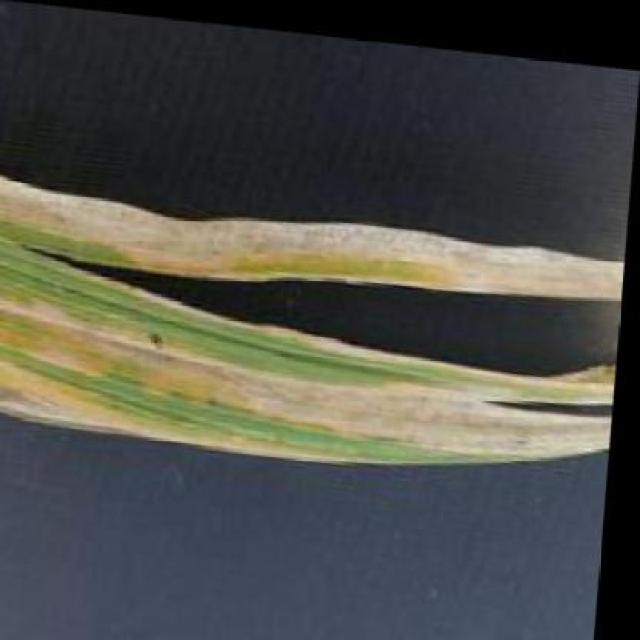Brown_Spot: (0, 154, 609, 483)
